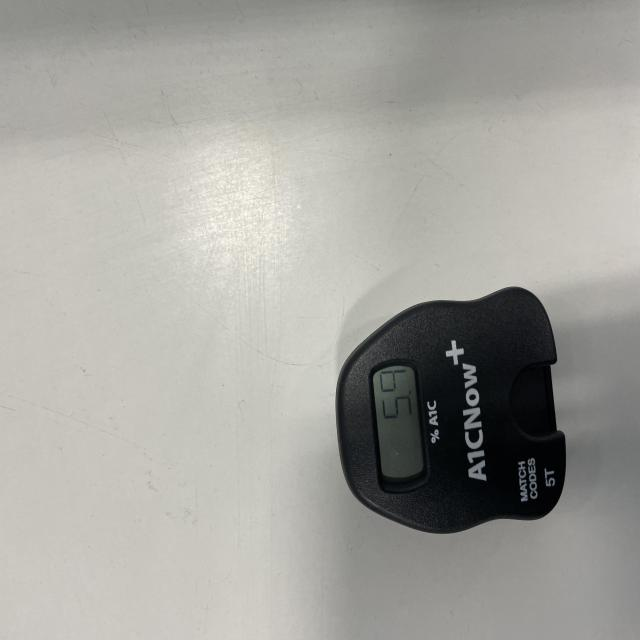hba1c: (335, 287, 566, 537)
